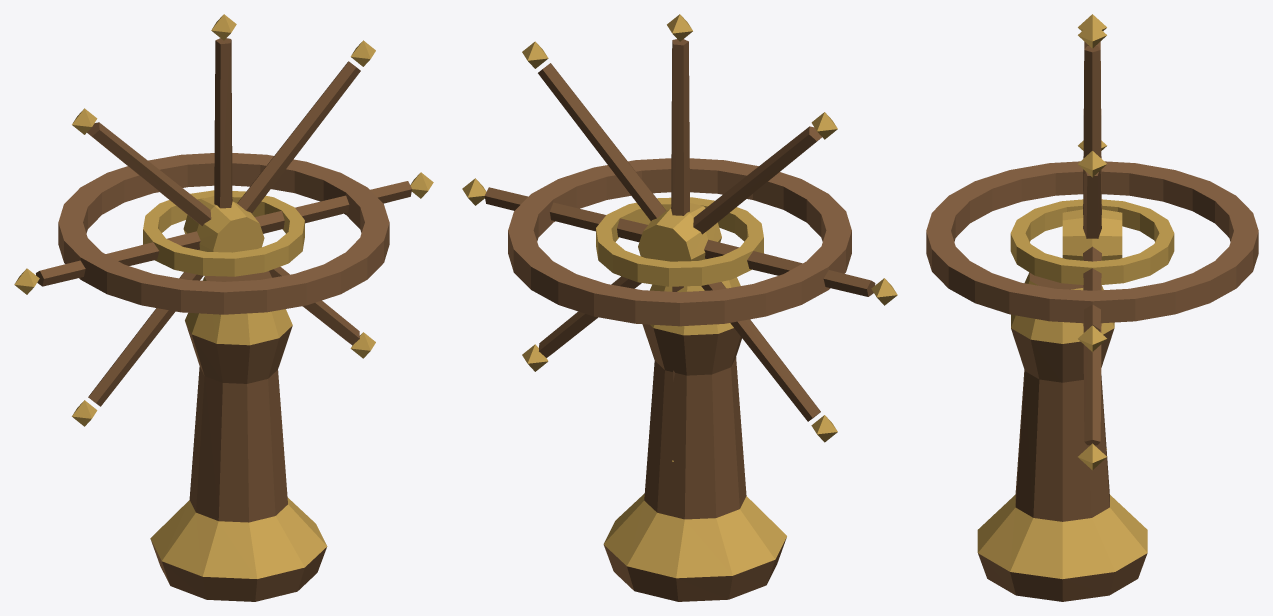
Rendered from ShipHelm.obj.
3 views of the same model, side by side, from view 1: azimuth 30°, elevation 25°; view 2: azimuth 150°, elevation 25°; view 3: azimuth 270°, elevation 25° (orthographic). The views are drawn at different scales.
Size of the model in its own units: 1.96 by 2.43 by 1.34.
